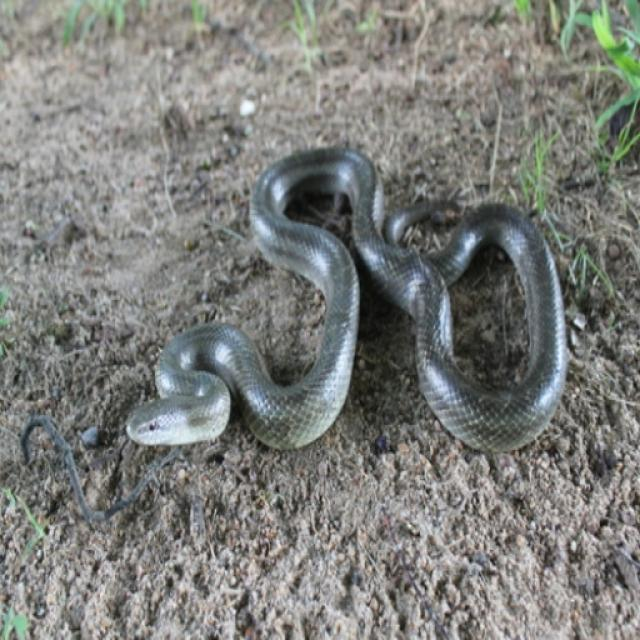snake: (93, 138, 605, 467)
